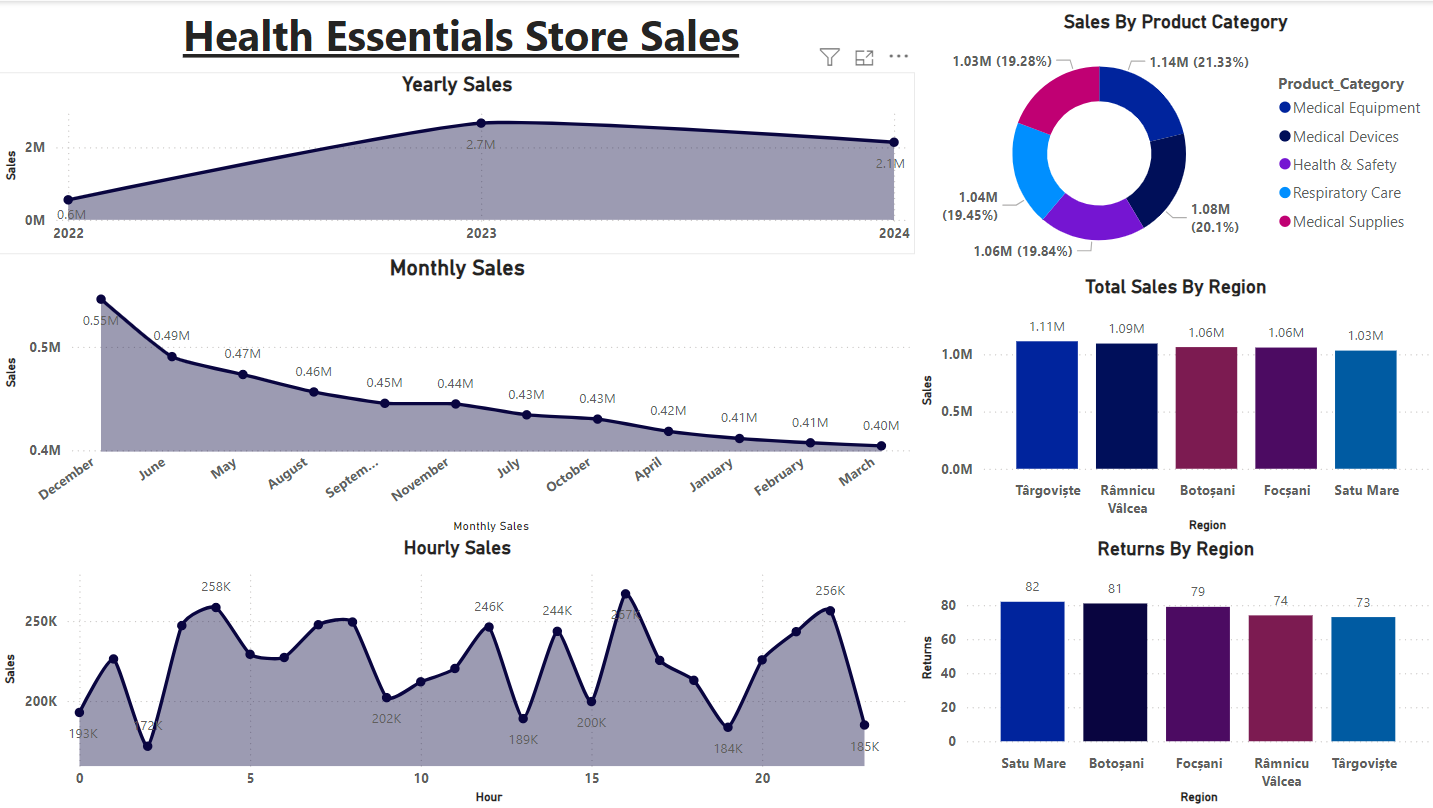

What the dashboard file says about the page in this screenshot:
{"tool":"powerbi","page":{"name":"Page 2","canvas":[1280,720],"ordinal":1},"visuals":[{"type":"textbox","box":[31.4,0,760.5,64],"z":0},{"type":"areaChart","title":"Monthly Sales","fields":{"Category":["Sheet1.Month"],"Y":["Sum(Sheet1.Total_Sales)"]},"box":[0,225.6,816.3,252.3],"z":1000},{"type":"areaChart","title":"Yearly Sales","fields":{"Category":["Sheet1.Year"],"Y":["Sum(Sheet1.Total_Sales)"]},"box":[0,64,816.3,161.6],"z":2000},{"type":"areaChart","title":"Hourly Sales","fields":{"Category":["Sheet1.Hour"],"Y":["Sum(Sheet1.Total_Sales)"]},"box":[0,476.5,816.4,243.9],"z":3000},{"type":"donutChart","title":"Sales By Product Category","fields":{"Category":["Sheet1.Product_Category"],"Y":["Sum(Sheet1.Total_Sales)"]},"box":[816.4,7.9,464.1,237.1],"z":4000},{"type":"clusteredColumnChart","title":"Total Sales By Region","fields":{"Category":["Sheet1.Region_Name"],"Y":["Sum(Sheet1.Total_Sales)"]},"box":[816,243.8,464.2,233.8],"z":5000},{"type":"clusteredColumnChart","title":"Returns By Region","fields":{"Category":["Sheet1.Region_Name"],"Y":["Sheet1.Count_Yes"]},"box":[816,477.6,464.2,242.7],"z":6000}]}

Visuals, with their boxes in screenshot pixels (x1, y1, x2, y2), scaled from the page's 1280x720 canvas onto the 1433x808 screenshot:
textbox: 35:0:887:72
"Monthly Sales" areaChart: 0:253:914:536
"Yearly Sales" areaChart: 0:72:914:253
"Hourly Sales" areaChart: 0:535:914:807
"Sales By Product Category" donutChart: 914:9:1432:275
"Total Sales By Region" clusteredColumnChart: 914:274:1432:536
"Returns By Region" clusteredColumnChart: 914:536:1432:807
